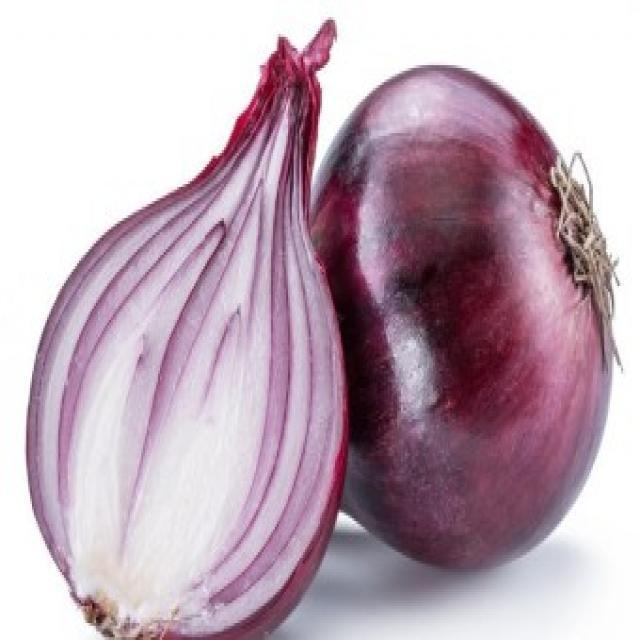onion: (24, 92, 344, 637), (314, 52, 626, 566)
